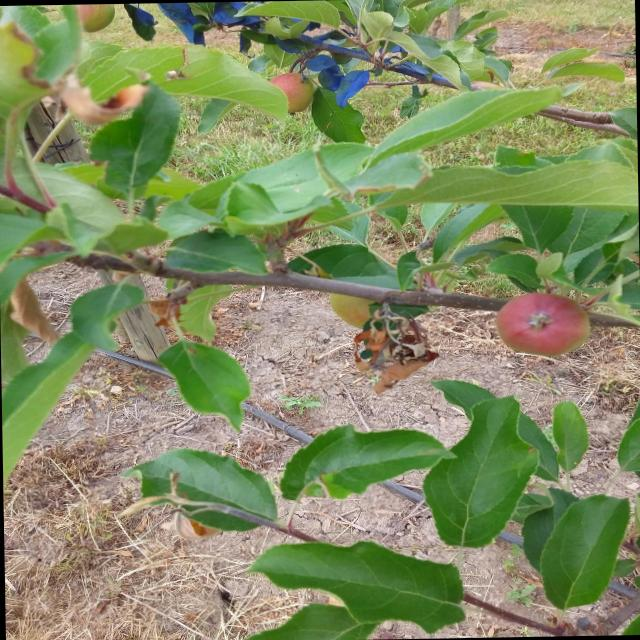-FireBlight-: (348, 286, 432, 388)
